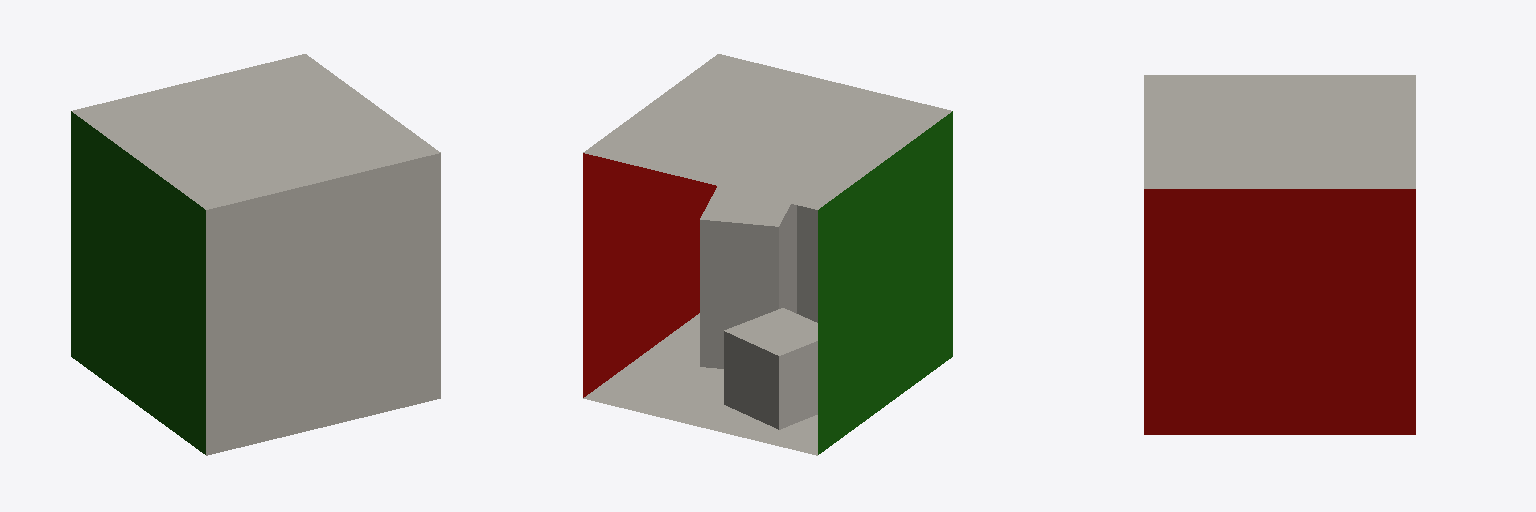
Rendered from cornell_box.obj.
The picture shows the model from 3 angles: view 1: azimuth 30°, elevation 25°; view 2: azimuth 150°, elevation 25°; view 3: azimuth 270°, elevation 25°; orthographic projection.
Parts seen in each view (by area): view 1: cornell; view 2: cornell; view 3: cornell.
Boxes of the visible parts, x1=… form: cornell: x1=71, y1=54, x2=440, y2=455; cornell: x1=583, y1=54, x2=952, y2=455; cornell: x1=1144, y1=75, x2=1415, y2=434.
Size of the model in its own units: 2 by 2.02 by 2.